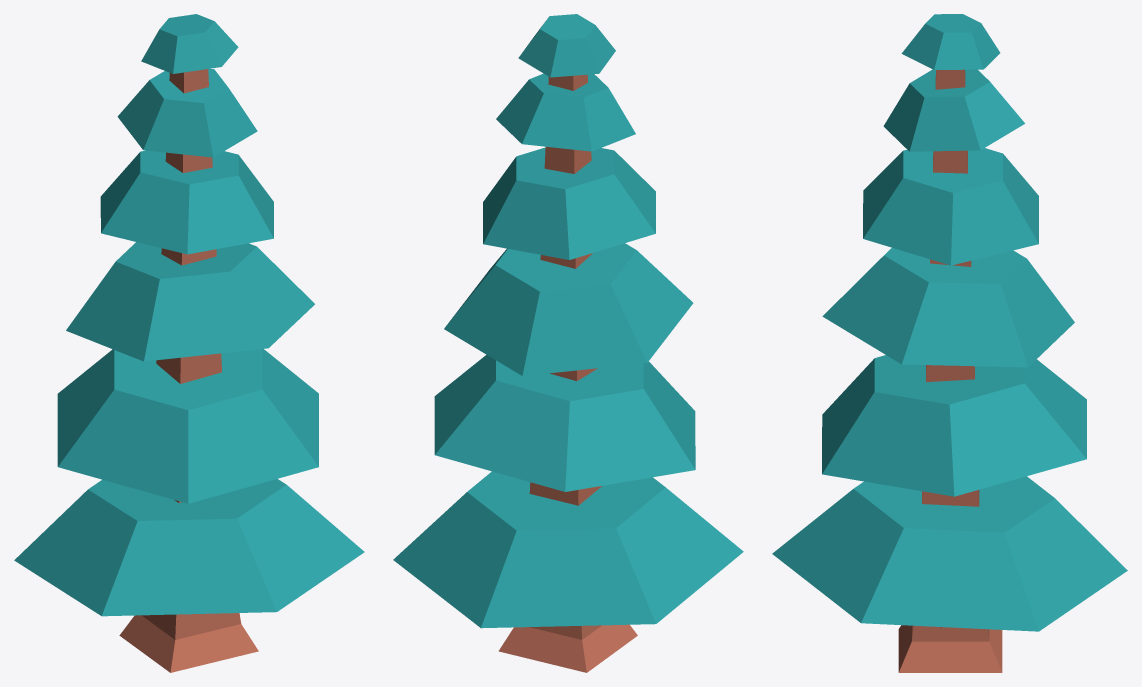
Rendered from tree-pine-round-b.glb.
3 views of the same model, side by side, from view 1: azimuth 30°, elevation 25°; view 2: azimuth 150°, elevation 25°; view 3: azimuth 270°, elevation 25° (orthographic).
Parts seen in each view (by area): view 1: tree_pineRoundB; view 2: tree_pineRoundB; view 3: tree_pineRoundB.
Part boxes in pixels (left/top/right/bottom): tree_pineRoundB: left=14, top=14, right=364, bottom=672; tree_pineRoundB: left=393, top=14, right=743, bottom=672; tree_pineRoundB: left=772, top=14, right=1127, bottom=672.
Size of the model in its own units: 0.5322 by 1.2 by 0.6132.
